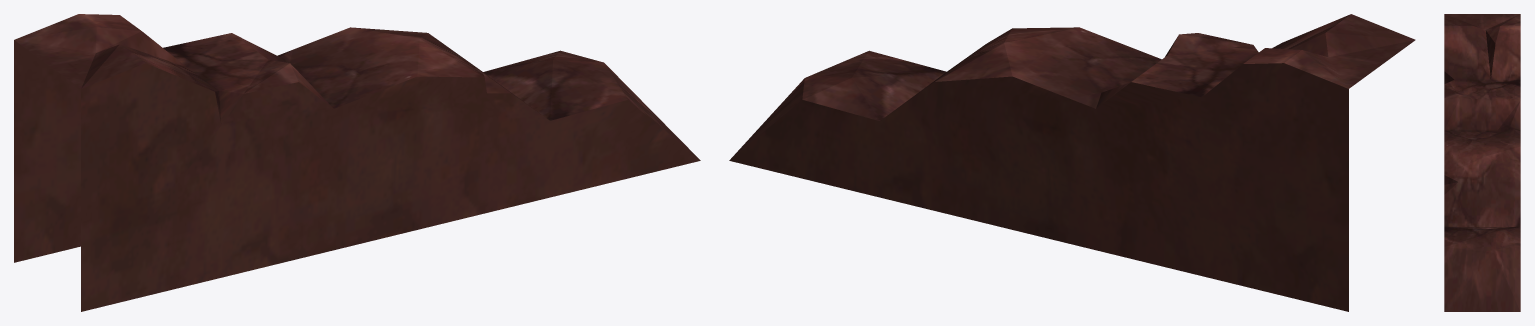
The model's file is lava_broken_straight_03.fbx.
3 views of the same model, side by side, from view 1: azimuth 30°, elevation 25°; view 2: azimuth 150°, elevation 25°; view 3: azimuth 270°, elevation 25° (orthographic). The views are drawn at different scales.
Visible parts, largest first — view 1: obj1.020; view 2: obj1.020; view 3: obj1.020.
Boxes of the visible parts, box(x1,y1,x2,y2) form: obj1.020: box(14, 14, 700, 311); obj1.020: box(729, 14, 1415, 311); obj1.020: box(1444, 14, 1520, 311).
Bounding box in the file's own units: 4 × 1.44 × 0.75.
